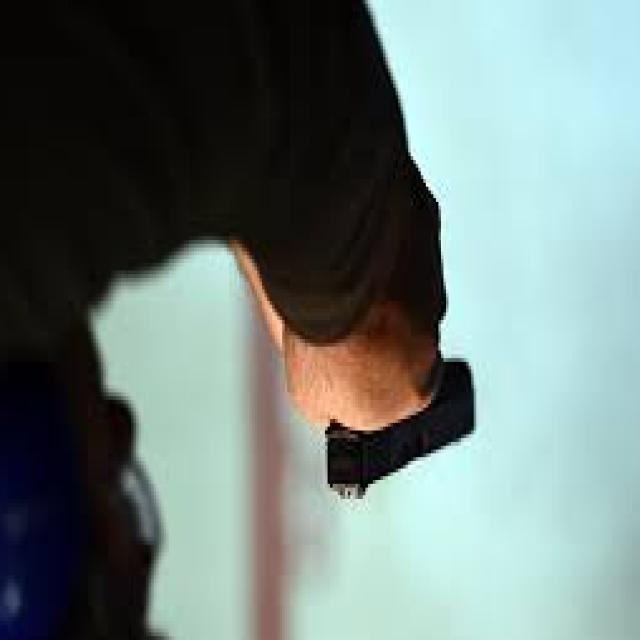gun: (298, 304, 519, 520)
